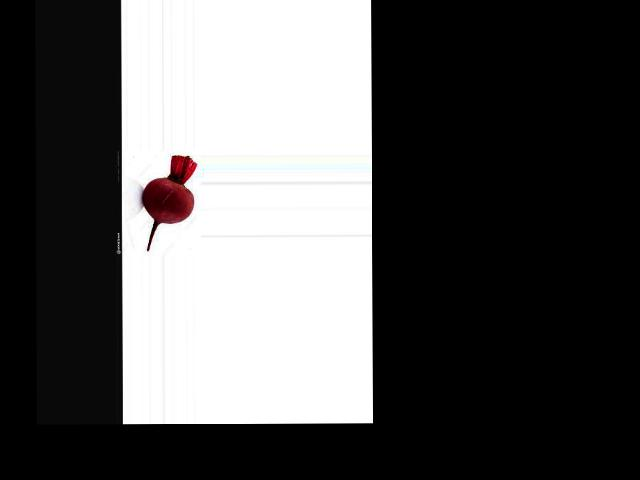beet: (142, 154, 196, 250)
